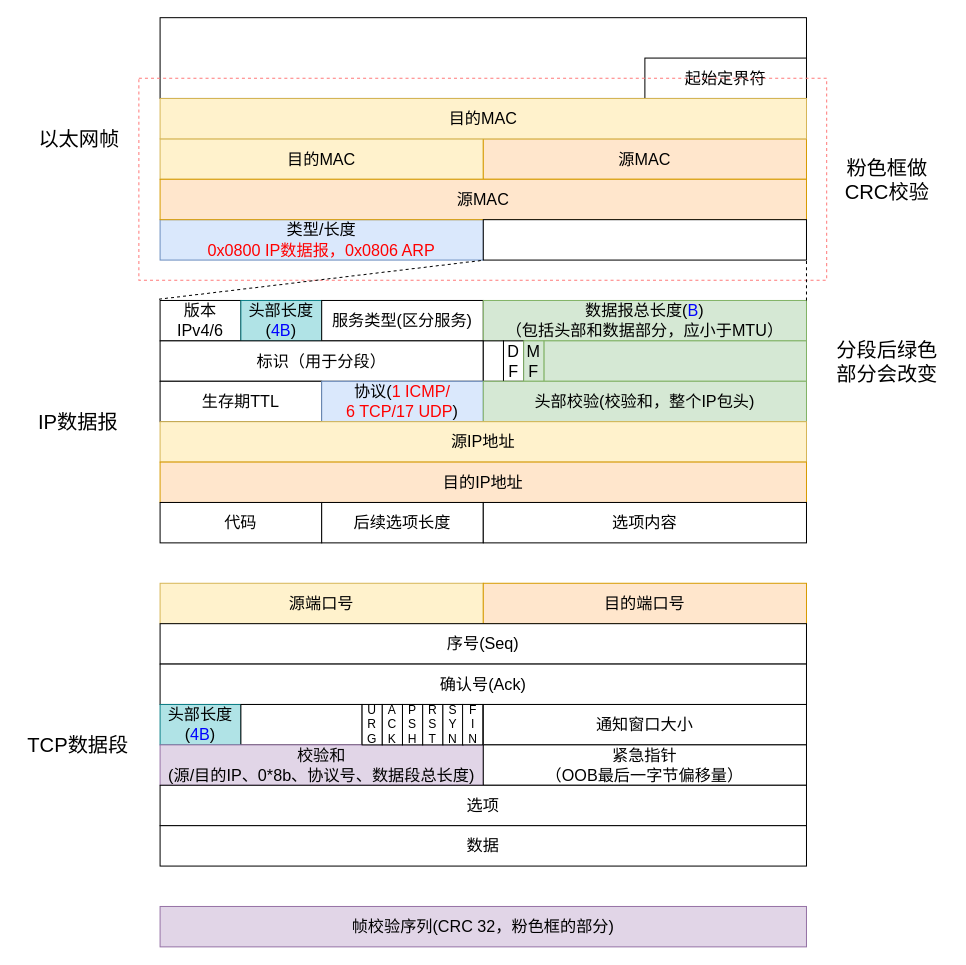
This 966x965 diagram has some shape labels left out. The box of each missing label's shape, as (x1, y1, x2, y2) in pixels:
前导字符: (159, 17, 806, 98)
填充位: (240, 703, 362, 745)
有效载荷+填充位(46B-1500B): (482, 219, 806, 260)
片段偏移量( 8B ): (543, 340, 806, 381)
